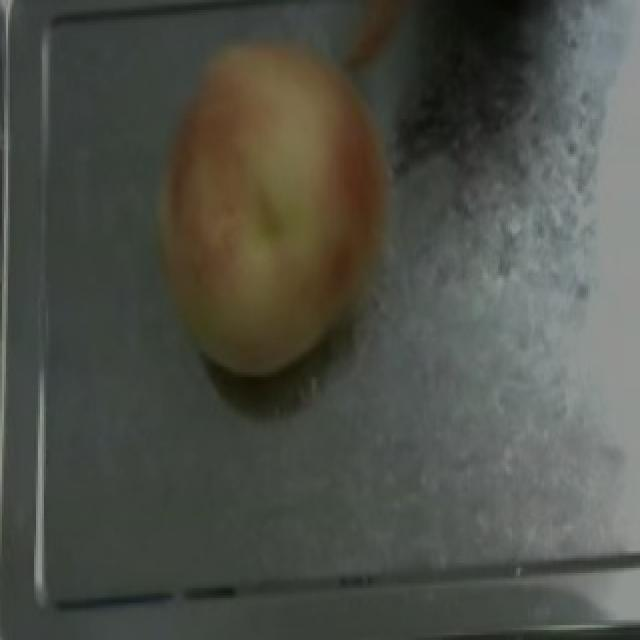Fruit: (138, 102, 418, 390)
